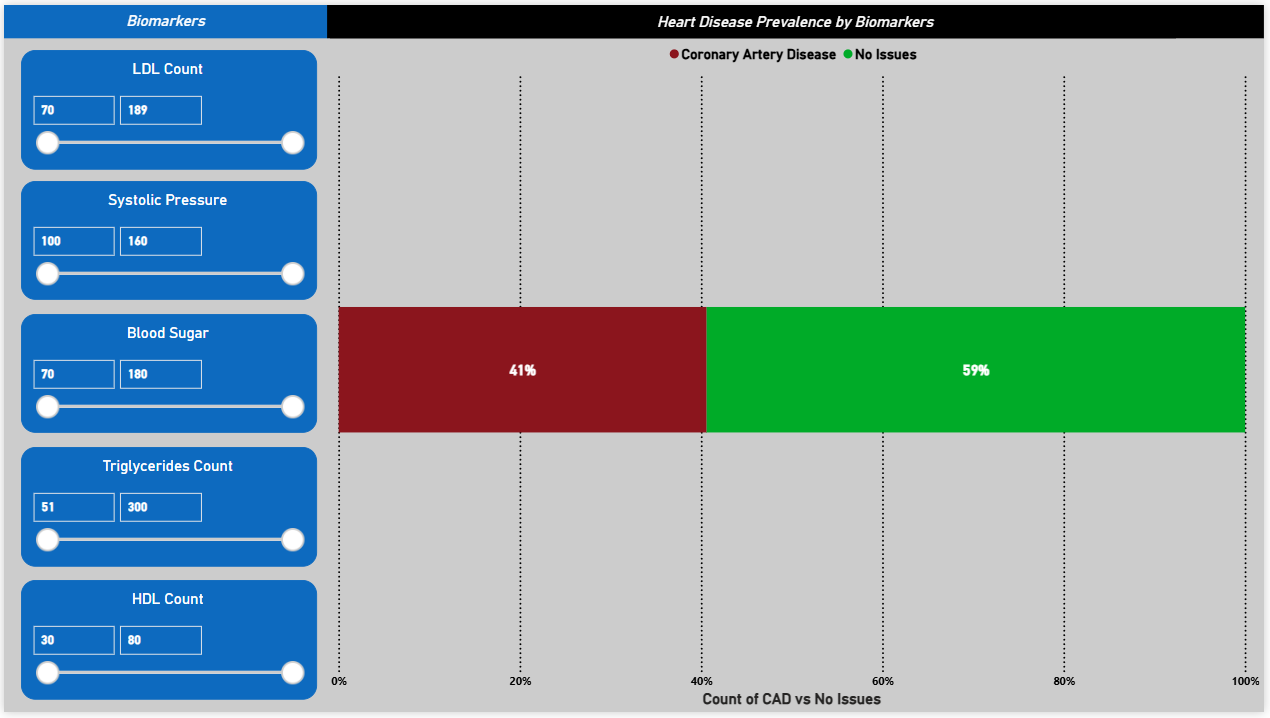

The page's visual inventory and layout, read from the dashboard file:
{"tool":"powerbi","page":{"name":"Page 1","canvas":[1400,785],"ordinal":0},"visuals":[{"type":"barChart","title":"Heart Disease Prevalence by Biomarkers","fields":{"Series":["patient_heart_issues_indicators.Heart Issues"],"Y":["CountNonNull(patient_heart_issues_indicators.Heart Issues)"]},"box":[358.9,0,1041.1,785.6],"z":0},{"type":"slicer","title":"LDL Count","fields":{"Values":["patient_heart_issues_indicators.LDL Count"]},"box":[18.9,50,328.9,133.3],"z":1000},{"type":"textbox","box":[0,0,358.8,36.9],"z":2000},{"type":"slicer","title":"Systolic Pressure","fields":{"Values":["patient_heart_issues_indicators.Systolic Pressure"]},"box":[18.9,195.6,328.9,132.2],"z":3000},{"type":"slicer","title":"Blood Sugar","fields":{"Values":["patient_heart_issues_indicators.Blood Sugar Level"]},"box":[18.9,343.3,328.9,132.2],"z":4000},{"type":"slicer","title":"Triglycerides Count","fields":{"Values":["patient_heart_issues_indicators.Triglycerides Count"]},"box":[18.9,491.1,328.9,133.3],"z":5000},{"type":"slicer","title":"HDL Count","fields":{"Values":["patient_heart_issues_indicators.HDL Count"]},"box":[18.9,638.9,328.9,133.3],"z":6000}]}

Visuals, with their boxes in screenshot pixels (x1, y1, x2, y2), scaled from the page's 1400x785 canvas onto the 1270x718 screenshot:
"Heart Disease Prevalence by Biomarkers" barChart: [x1=326, y1=0, x2=1269, y2=717]
"LDL Count" slicer: [x1=17, y1=46, x2=316, y2=168]
textbox: [x1=0, y1=0, x2=325, y2=34]
"Systolic Pressure" slicer: [x1=17, y1=179, x2=316, y2=300]
"Blood Sugar" slicer: [x1=17, y1=314, x2=316, y2=435]
"Triglycerides Count" slicer: [x1=17, y1=449, x2=316, y2=571]
"HDL Count" slicer: [x1=17, y1=584, x2=316, y2=706]
